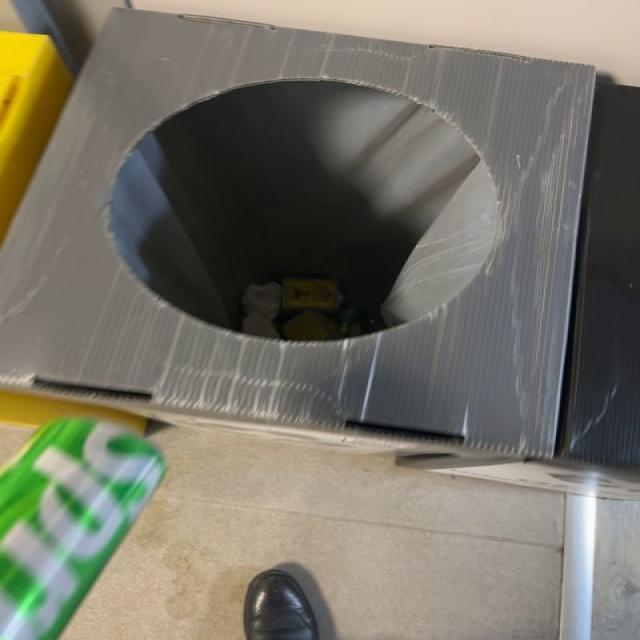Bin: (3, 9, 595, 458)
Metal: (1, 418, 165, 640)
